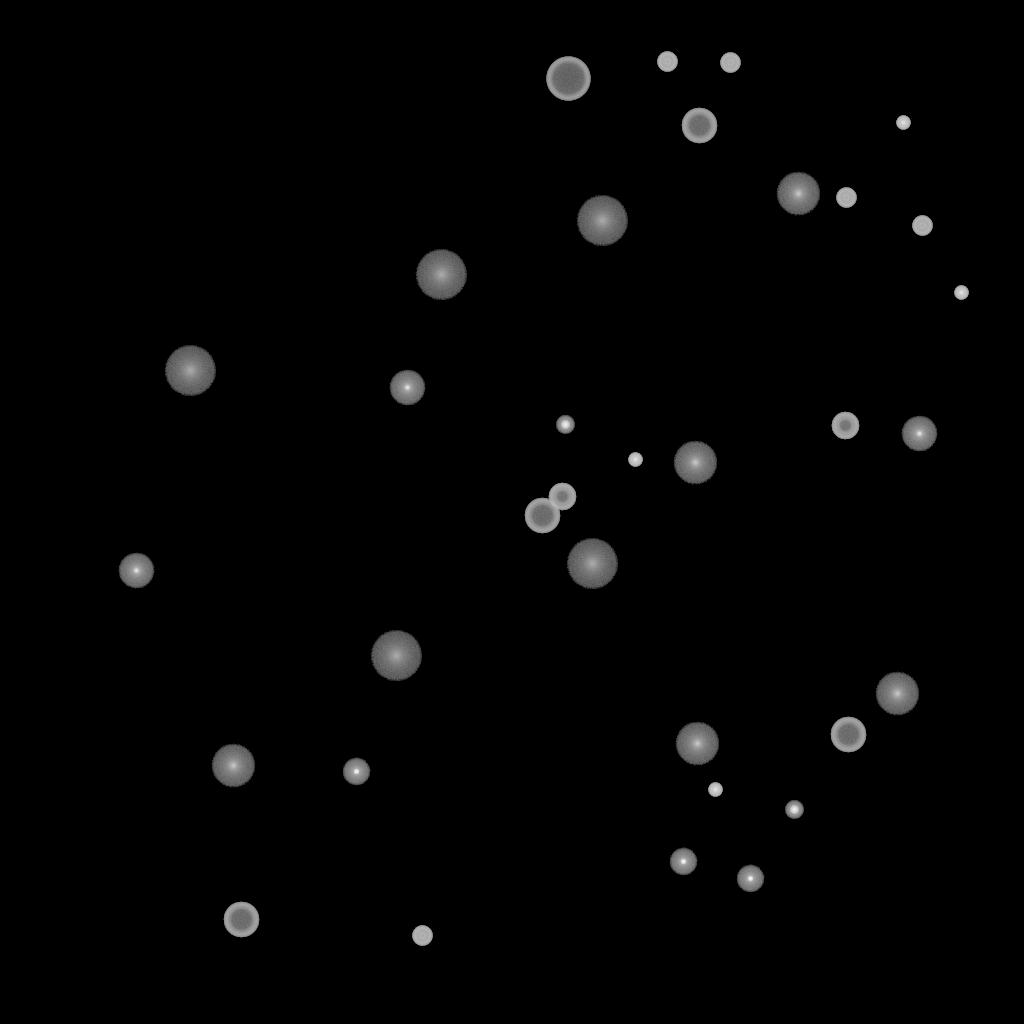depth:-10: (736, 865, 764, 893), (342, 758, 370, 786), (669, 848, 697, 876)
depth:-20: (556, 416, 574, 434), (785, 801, 803, 819)
depth:-30: (954, 286, 968, 300), (708, 783, 722, 797), (628, 453, 642, 467), (896, 116, 910, 130)
depth:-40: (657, 52, 677, 72), (412, 926, 432, 946), (836, 188, 856, 208), (720, 53, 740, 73), (912, 216, 932, 236)
depth:-50: (831, 412, 859, 440), (548, 483, 576, 511)
depth:-60: (524, 498, 560, 534), (830, 717, 866, 753), (681, 108, 717, 144), (223, 902, 259, 938)
depth:-70: (546, 57, 590, 101)
depth:0: (901, 416, 937, 452), (118, 553, 154, 589), (389, 370, 425, 406)
depth:10: (675, 722, 719, 766), (673, 441, 717, 485), (776, 172, 820, 216), (875, 672, 919, 716), (211, 744, 255, 788)
depth:20: (370, 631, 422, 681), (566, 539, 618, 589), (164, 346, 216, 396), (415, 250, 467, 300), (576, 196, 628, 246)
